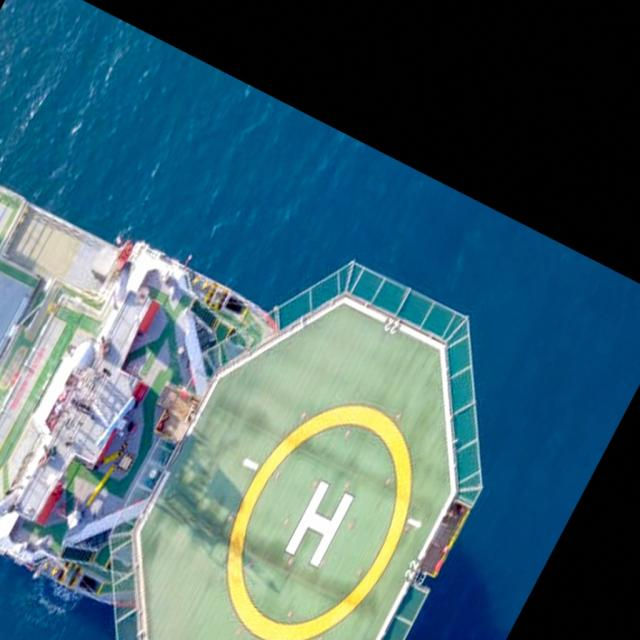helipad: (220, 399, 416, 639)
